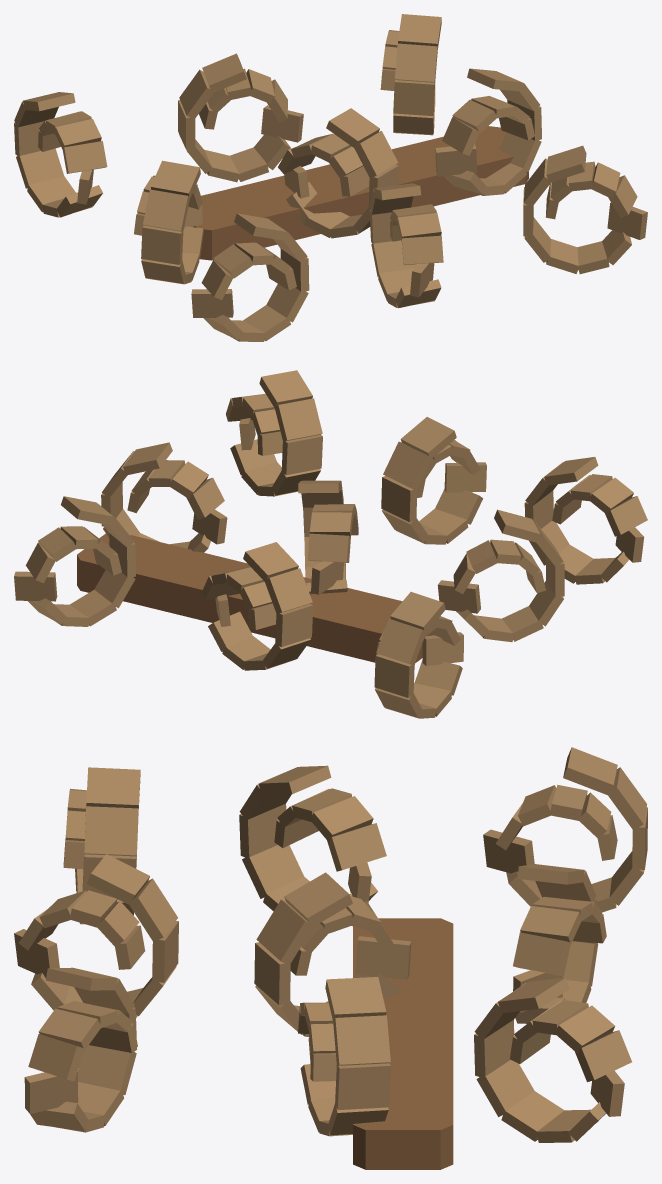
Rendered from wood_shavings.glb.
The picture shows the model from 3 angles, top to bottom: view 1: azimuth 30°, elevation 25°; view 2: azimuth 150°, elevation 25°; view 3: azimuth 270°, elevation 25°; orthographic projection. The views are drawn at different scales.
Visible parts, largest first — view 1: geometry; view 2: geometry; view 3: geometry.
Boxes of the visible parts, x1,y1,x2,y2 form: geometry: (14, 14, 647, 341); geometry: (14, 370, 647, 718); geometry: (14, 747, 647, 1169).
Bounding box in the file's own units: 0.5302 × 0.1405 × 0.5059.
